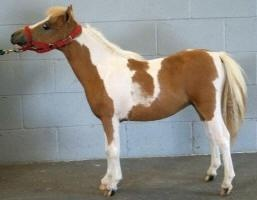horse: (12, 5, 248, 197)
